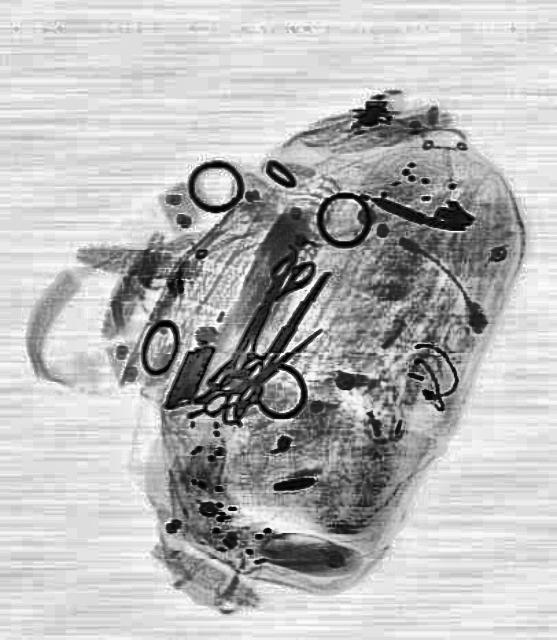Scissors: (212, 253, 360, 451), (224, 244, 316, 364)
